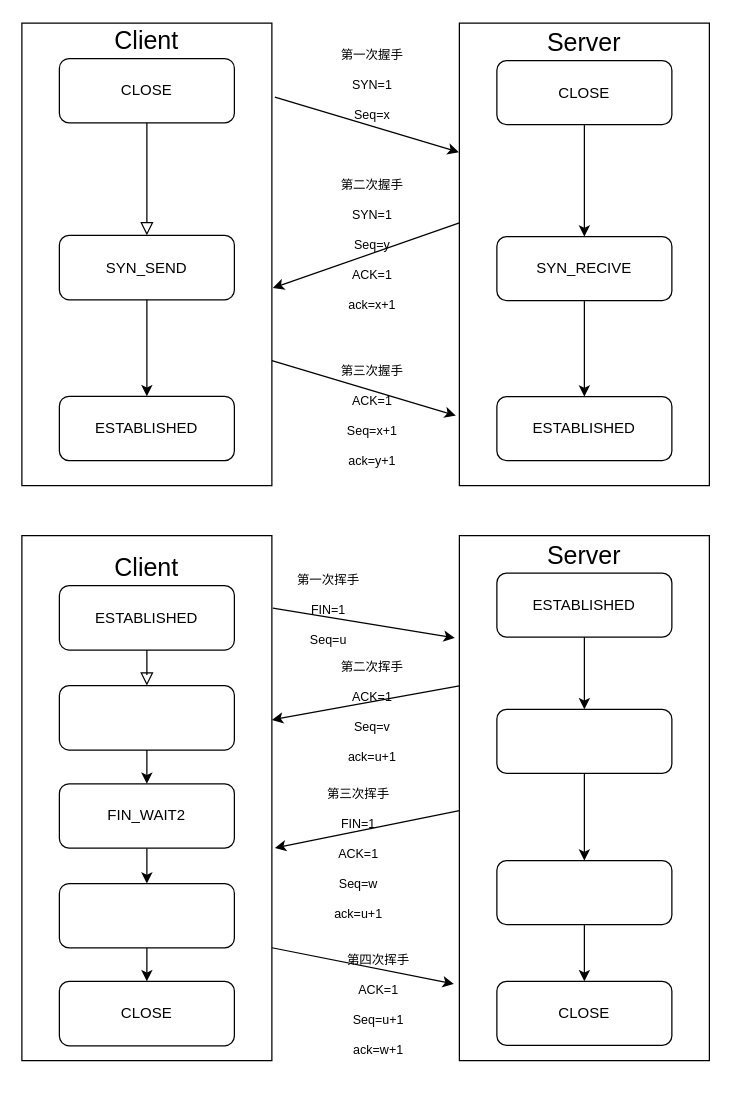
Some shapes in this 731 by 1096 pixel diagram are drawn without their labels. Here are the shapes that lost their labels. From the top down, the centre of each, then its label:
At point 146,717: "FIN_WAIT1".
At point 584,740: "CLOSE_WAIT".
At point 584,892: "LAST_ACK".
At point 146,915: "TIME_WAIT".
